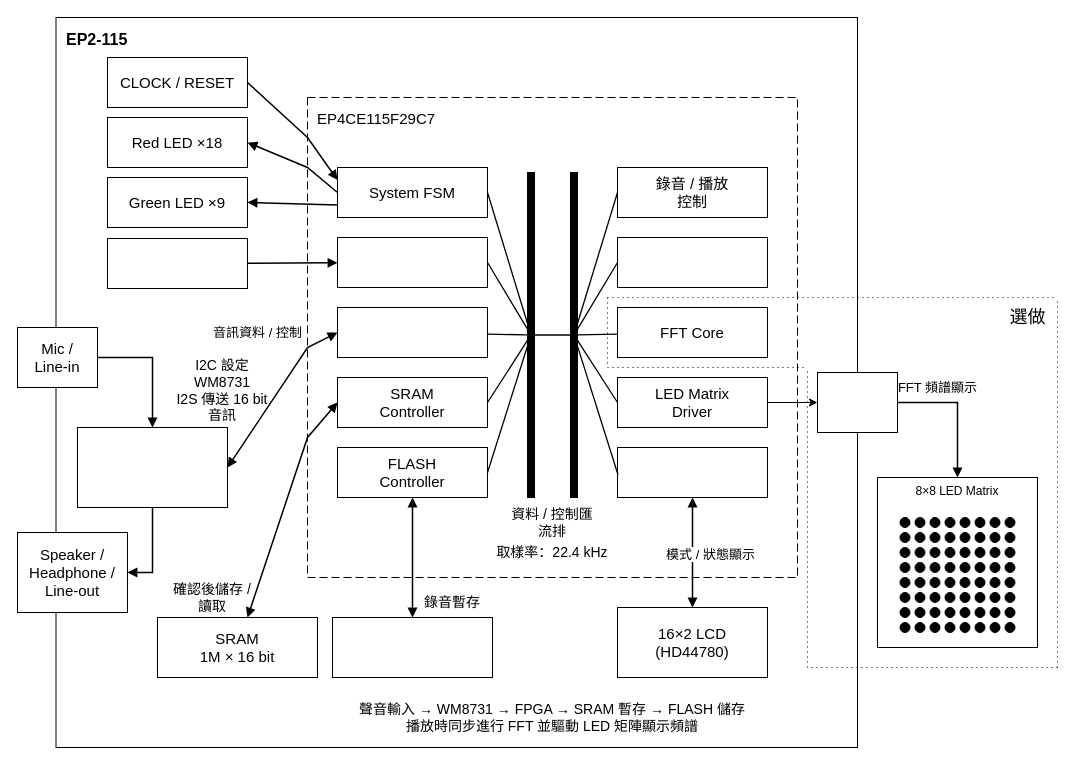
Image size: 1076x765. Some labels were removed from this diagram. Each missing label, with the centre of its shape:
8*2 Connecter: point (857, 402)
Audio Buffer / FIFO: point (692, 262)
Audio 控制 (I2C / I2S): point (412, 332)
BUTTON / SW: point (177, 263)
FLASH 4M × 16 bit: point (412, 647)
LCD Controller: point (692, 472)
WM8731 Audio CODEC: point (152, 467)
按鍵 / SW 防彈跳控制: point (412, 262)
